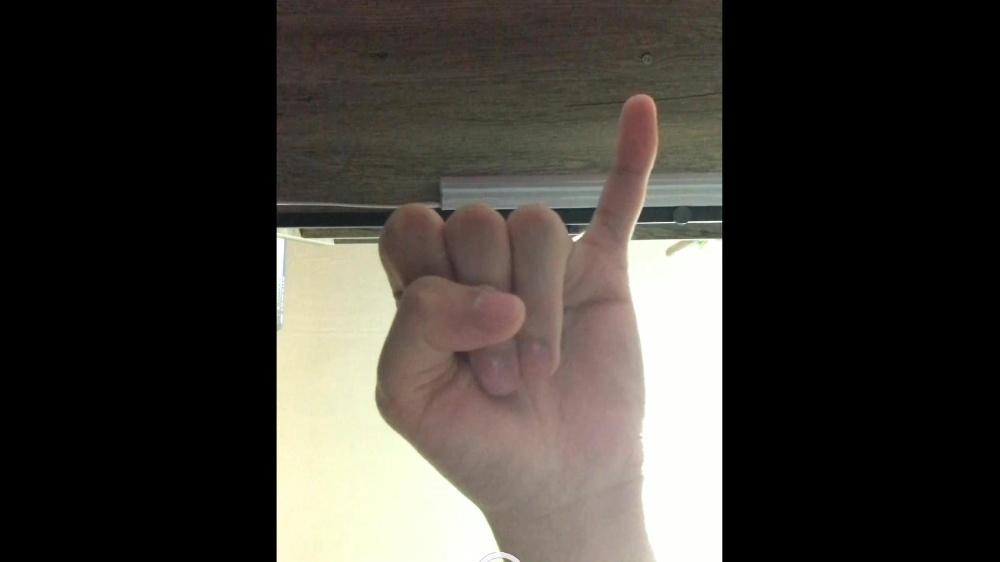i: (372, 93, 658, 491)
